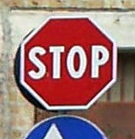stop: (16, 13, 117, 112)
